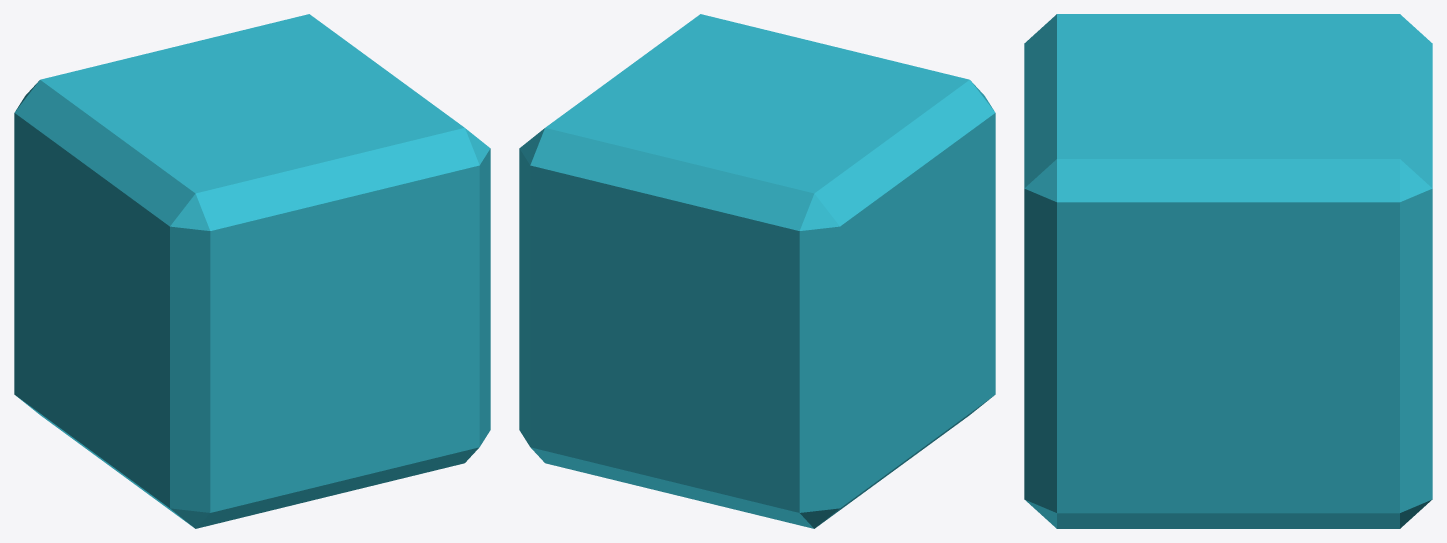
The model's file is debris_glass.glb.
3 views of the same model, side by side, from view 1: azimuth 30°, elevation 25°; view 2: azimuth 150°, elevation 25°; view 3: azimuth 270°, elevation 25° (orthographic). The views are drawn at different scales.
Parts seen in each view (by area): view 1: debris_glass; view 2: debris_glass; view 3: debris_glass.
Boxes of the visible parts, left/top/right/bottom form: debris_glass: left=14, top=14, right=490, bottom=528; debris_glass: left=519, top=14, right=995, bottom=528; debris_glass: left=1024, top=14, right=1432, bottom=528.
Size of the model in its own units: 0.075 by 0.075 by 0.075.
